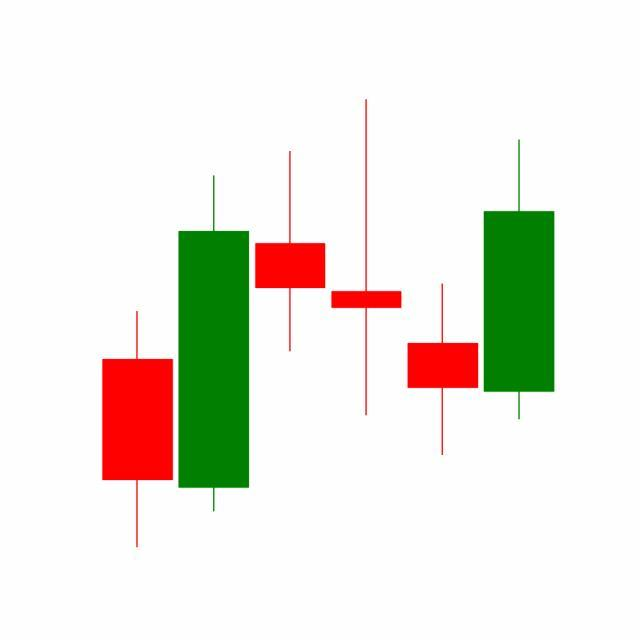Three Line Strike: (251, 99, 555, 460)
